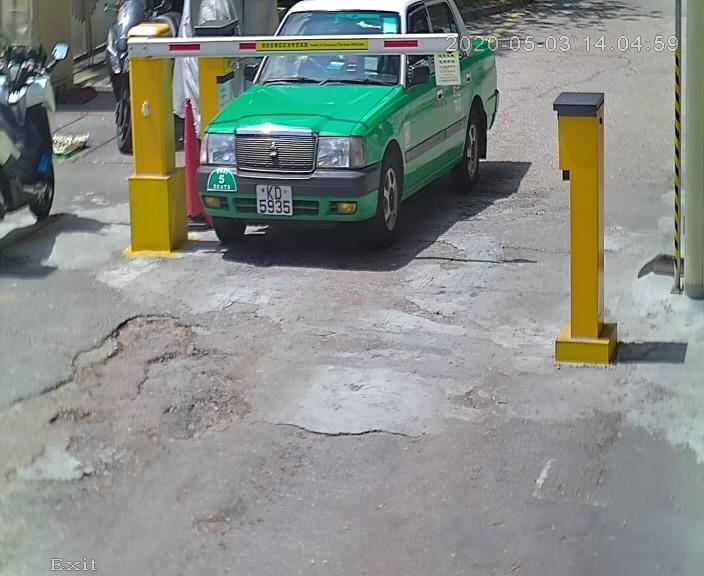Car: (187, 1, 506, 267)
License Plate: (248, 175, 301, 221)
